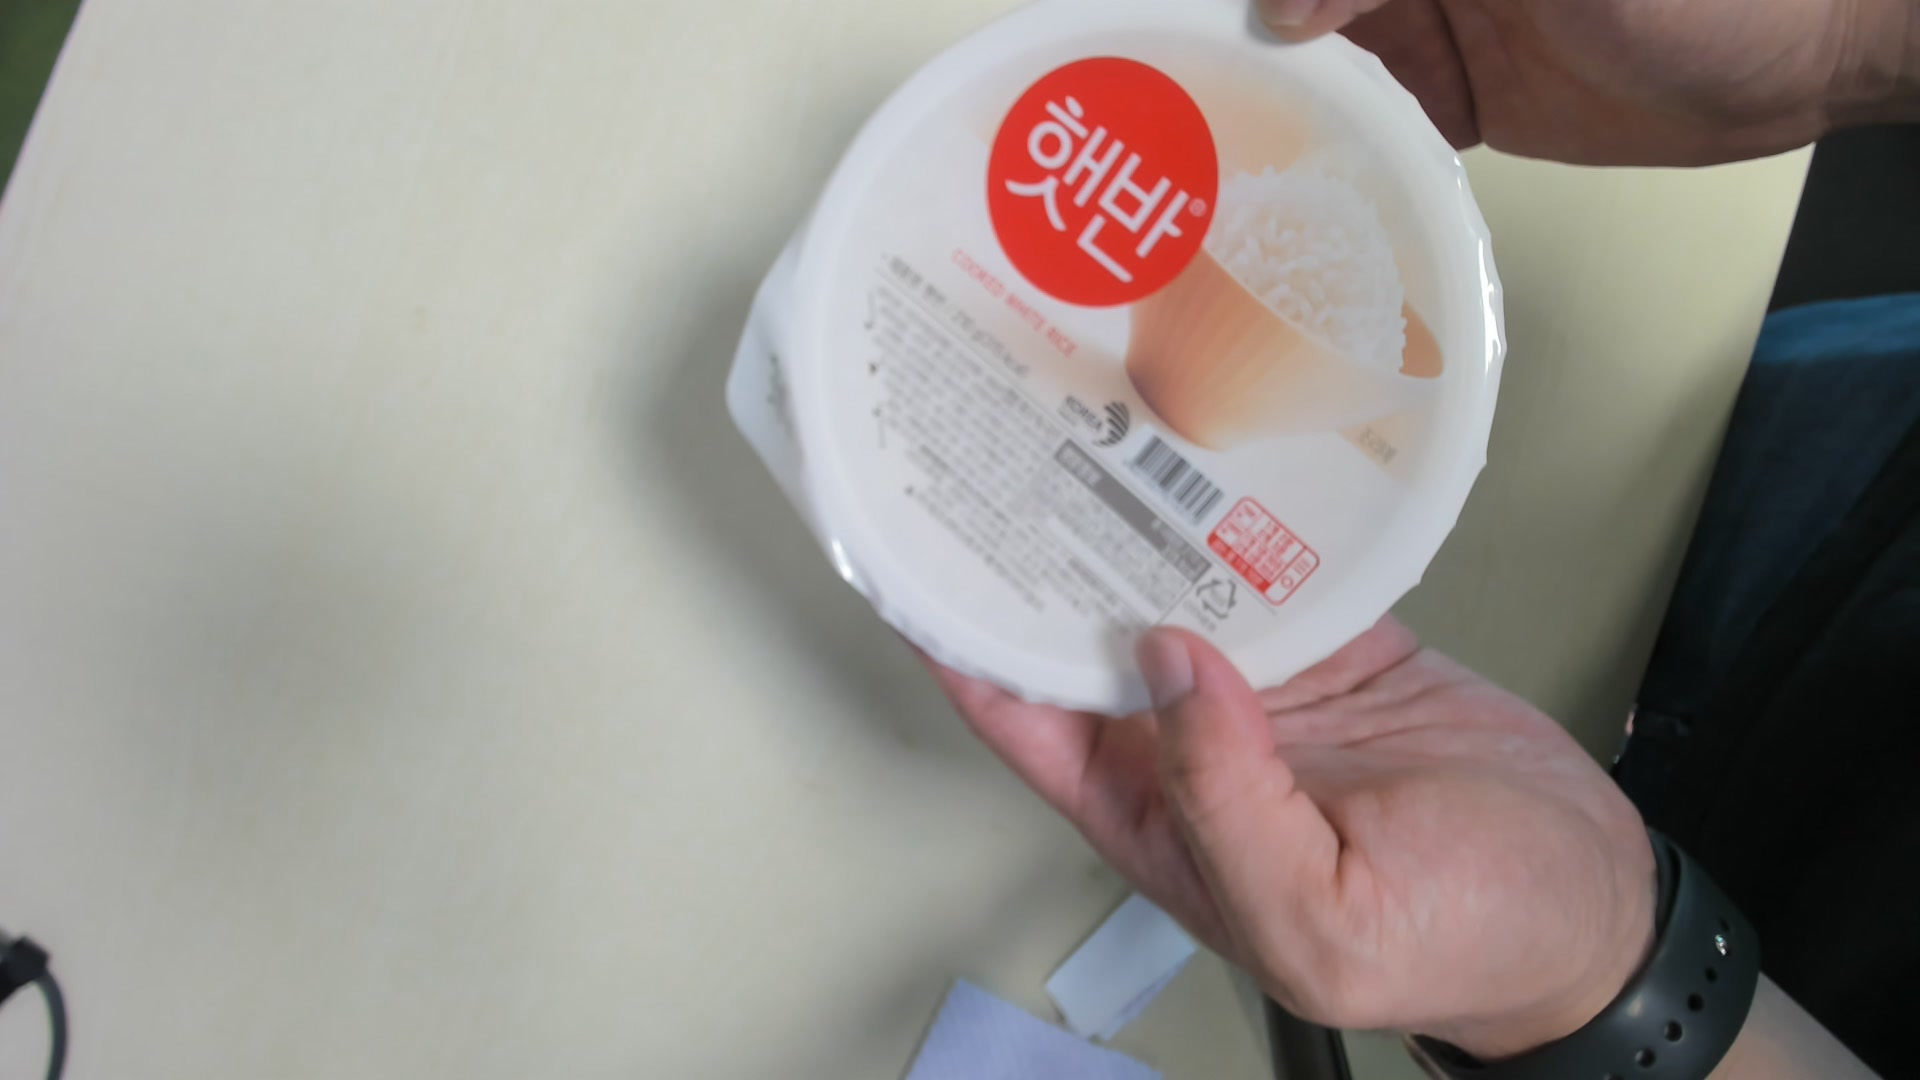Pasta_500-599g_Halal_NonHealthy: (727, 9, 1507, 723)
